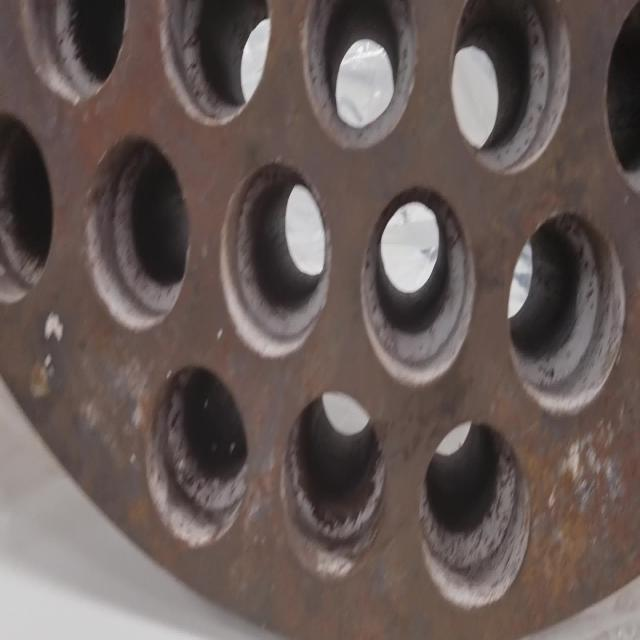Hole: (508, 208, 627, 414), (360, 182, 476, 386), (220, 159, 331, 357), (421, 419, 533, 610), (451, 0, 572, 175), (84, 134, 189, 330), (279, 390, 386, 582), (146, 363, 250, 547), (299, 0, 418, 152), (158, 0, 273, 126), (18, 0, 128, 106), (0, 109, 54, 306)
